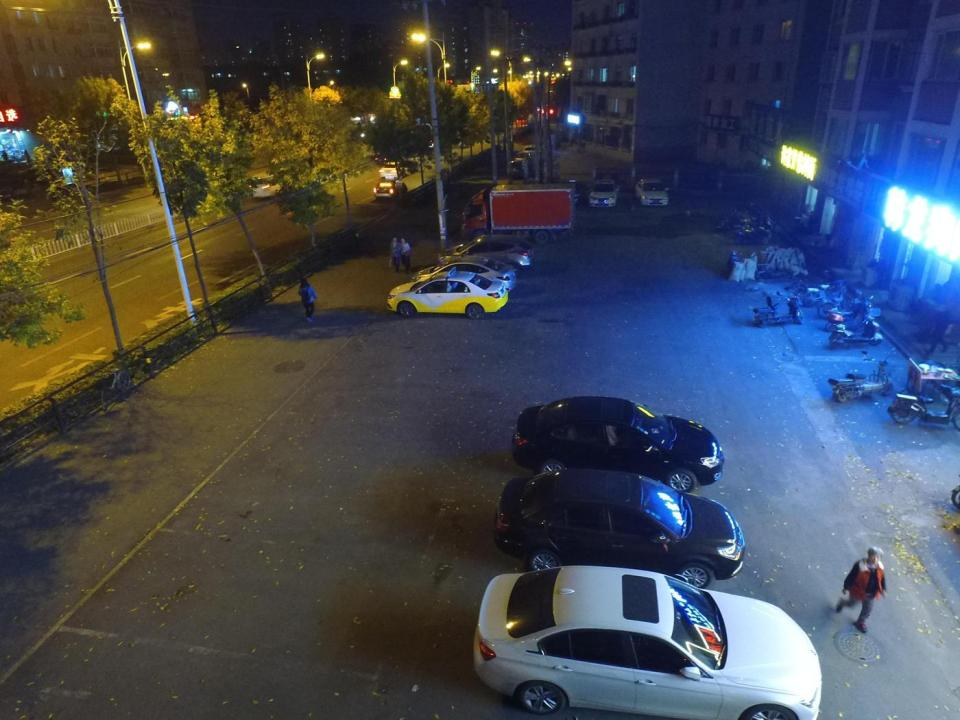car: (476, 562, 825, 720), (498, 467, 752, 584), (512, 394, 736, 492), (386, 278, 511, 318), (441, 234, 534, 273), (419, 260, 519, 288), (247, 171, 304, 195), (634, 178, 672, 209), (589, 178, 621, 208), (372, 175, 408, 197), (562, 176, 586, 206), (380, 158, 406, 182), (370, 150, 404, 166), (508, 158, 529, 178), (522, 142, 540, 161), (515, 150, 533, 166)
truck: (457, 187, 581, 241)
